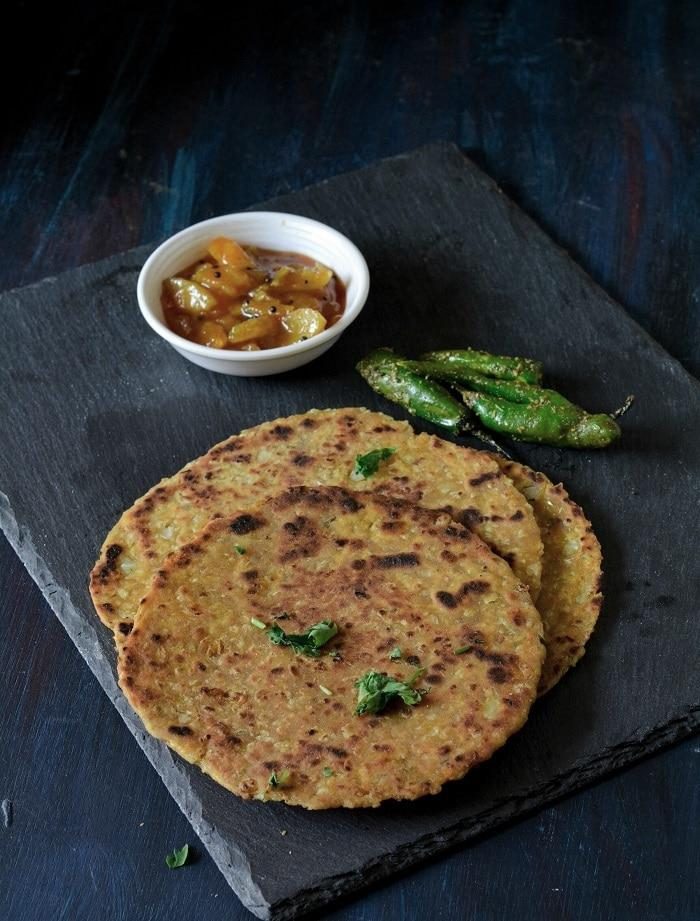thepla: (61, 443, 555, 818)
